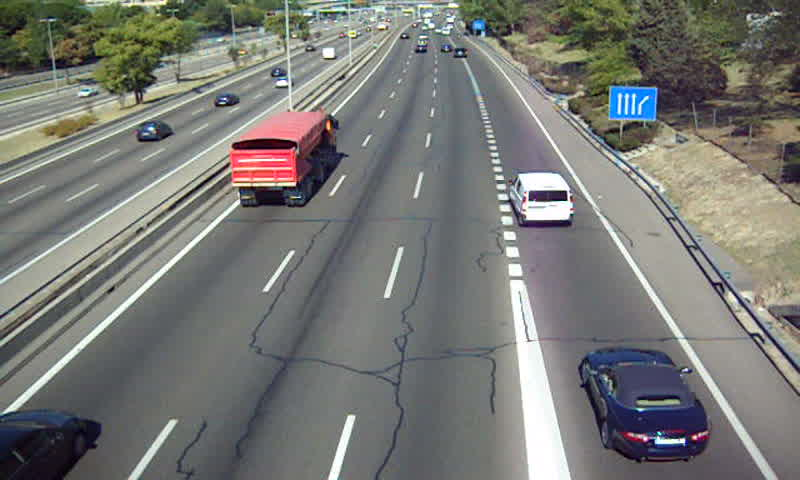car: (580, 349, 712, 457)
truck: (231, 111, 338, 204)
van: (510, 172, 575, 222)
